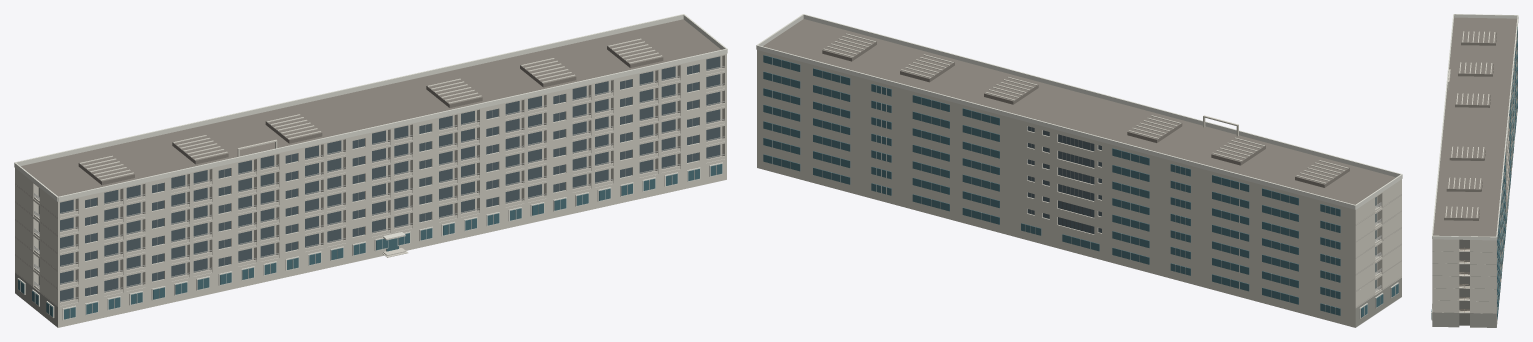
The model's file is chunk-dorm-way-760187418.glb.
The picture shows the model from 3 angles, left to right: view 1: azimuth 30°, elevation 25°; view 2: azimuth 150°, elevation 25°; view 3: azimuth 270°, elevation 25°; orthographic projection. The views are drawn at different scales.
Parts seen in each view (by area): view 1: chunk-dorm-way-760187418; view 2: chunk-dorm-way-760187418; view 3: chunk-dorm-way-760187418.
Part boxes in pixels (<box>): chunk-dorm-way-760187418: <box>14,14,727,327</box>; chunk-dorm-way-760187418: <box>756,14,1402,327</box>; chunk-dorm-way-760187418: <box>1431,14,1518,327</box>.
Size of the model in its own units: 122 by 24.51 by 20.18.
Materials: 11 (1 with a texture image).
